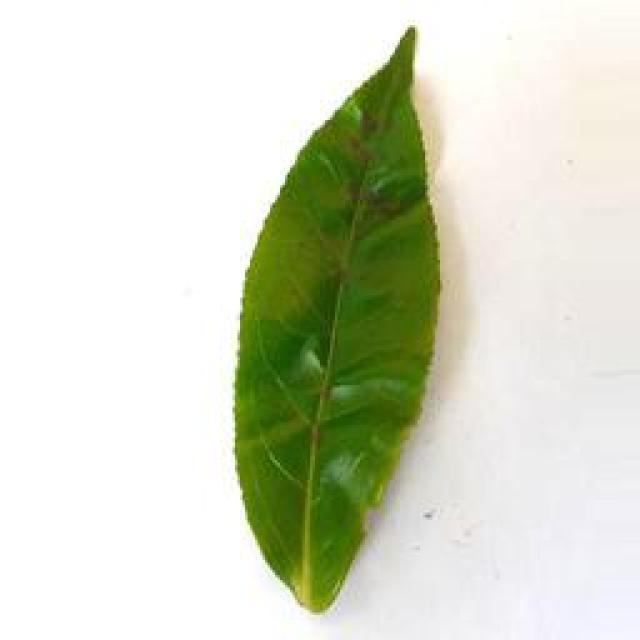Helopeltis: (233, 22, 441, 616)
